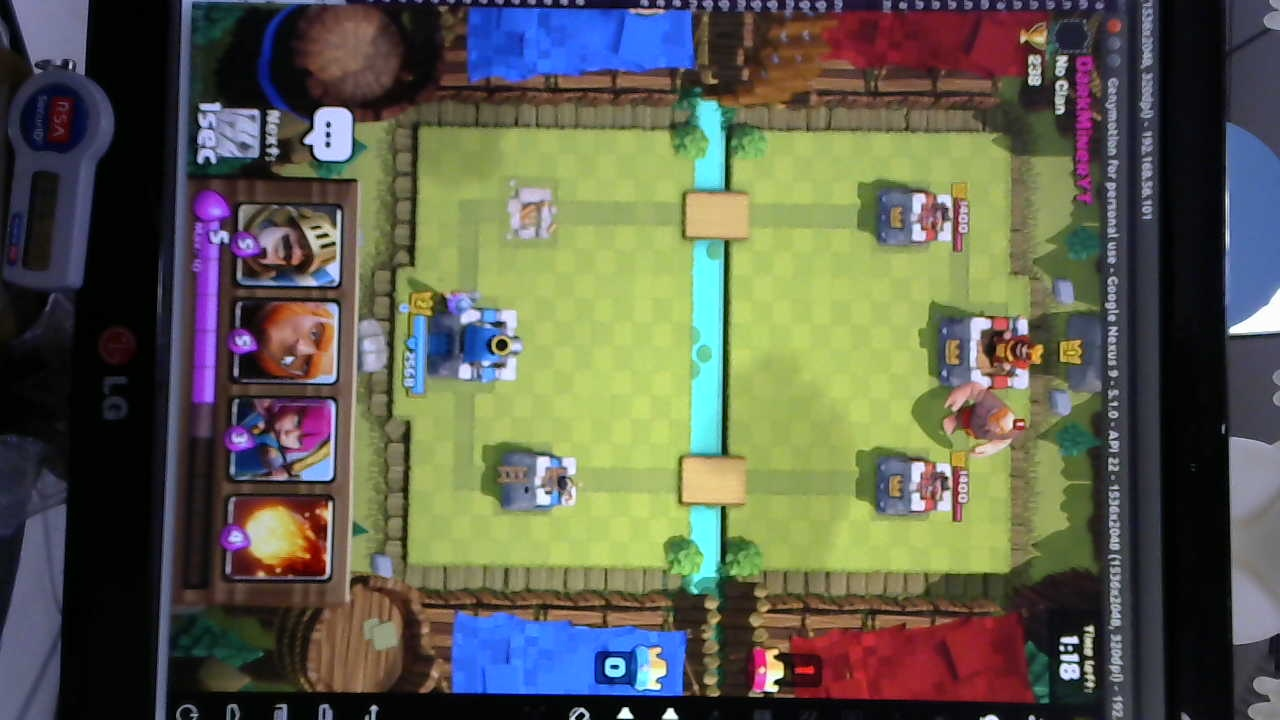arena: (496, 449, 581, 515)
darena: (502, 185, 558, 242)
earena: (872, 187, 954, 250), (869, 459, 954, 517)
eking: (935, 309, 1045, 391)
giant: (942, 381, 1028, 454)
king: (424, 304, 523, 384)
musketeer: (432, 285, 480, 319)
